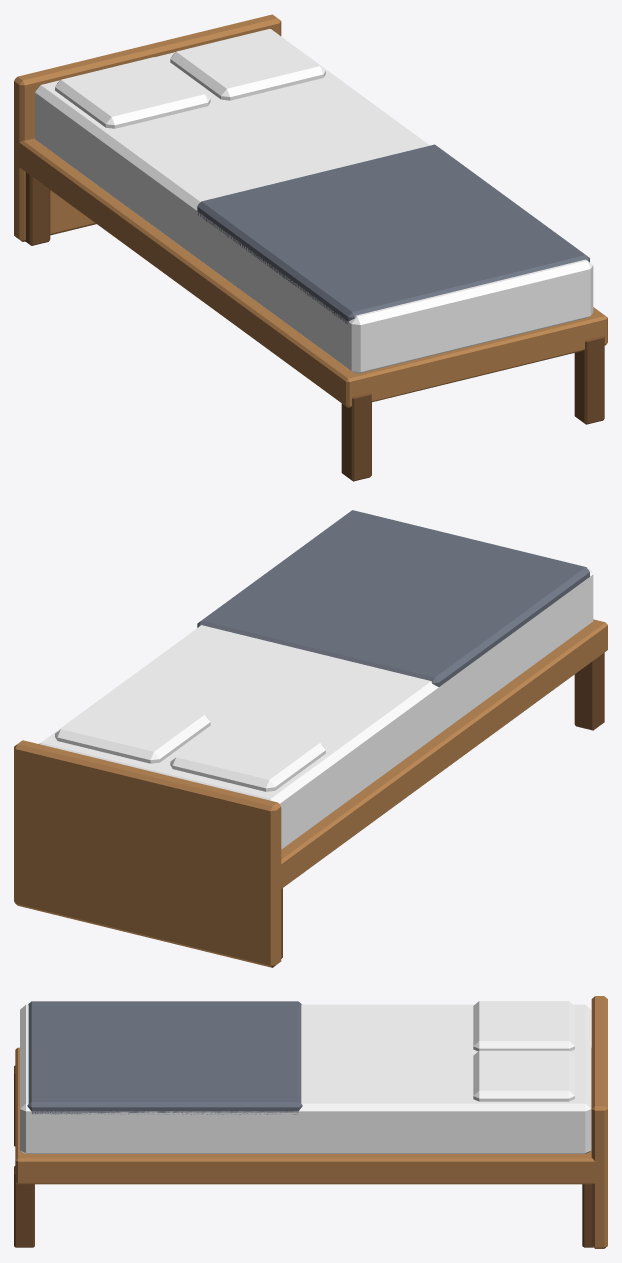
The model's file is bed-single-900.glb.
3 views of the same model, one above another, from view 1: azimuth 30°, elevation 25°; view 2: azimuth 150°, elevation 25°; view 3: azimuth 270°, elevation 25° (orthographic). The views are drawn at different scales.
Parts seen in each view (by area): view 1: bed-single-900.tint, bed-single-900.fabric, bed-single-900.wood, bed-single-900.woodDark; view 2: bed-single-900.wood, bed-single-900.tint, bed-single-900.fabric, bed-single-900.woodDark; view 3: bed-single-900.tint, bed-single-900.fabric, bed-single-900.wood, bed-single-900.woodDark.
Boxes of the visible parts, bbox=[...] form: bed-single-900.tint: bbox=[35, 29, 593, 373]; bed-single-900.fabric: bbox=[197, 144, 589, 324]; bed-single-900.wood: bbox=[14, 14, 607, 407]; bed-single-900.woodDark: bbox=[25, 172, 604, 481]; bed-single-900.wood: bbox=[14, 619, 607, 967]; bed-single-900.tint: bbox=[39, 511, 593, 849]; bed-single-900.fabric: bbox=[197, 510, 589, 686]; bed-single-900.woodDark: bbox=[281, 653, 604, 958]; bed-single-900.tint: bbox=[20, 1001, 591, 1153]; bed-single-900.fabric: bbox=[27, 1001, 302, 1114]; bed-single-900.wood: bbox=[15, 996, 607, 1248]; bed-single-900.woodDark: bbox=[14, 1065, 593, 1247].
Size of the model in its own units: 0.9 by 0.55 by 2.
